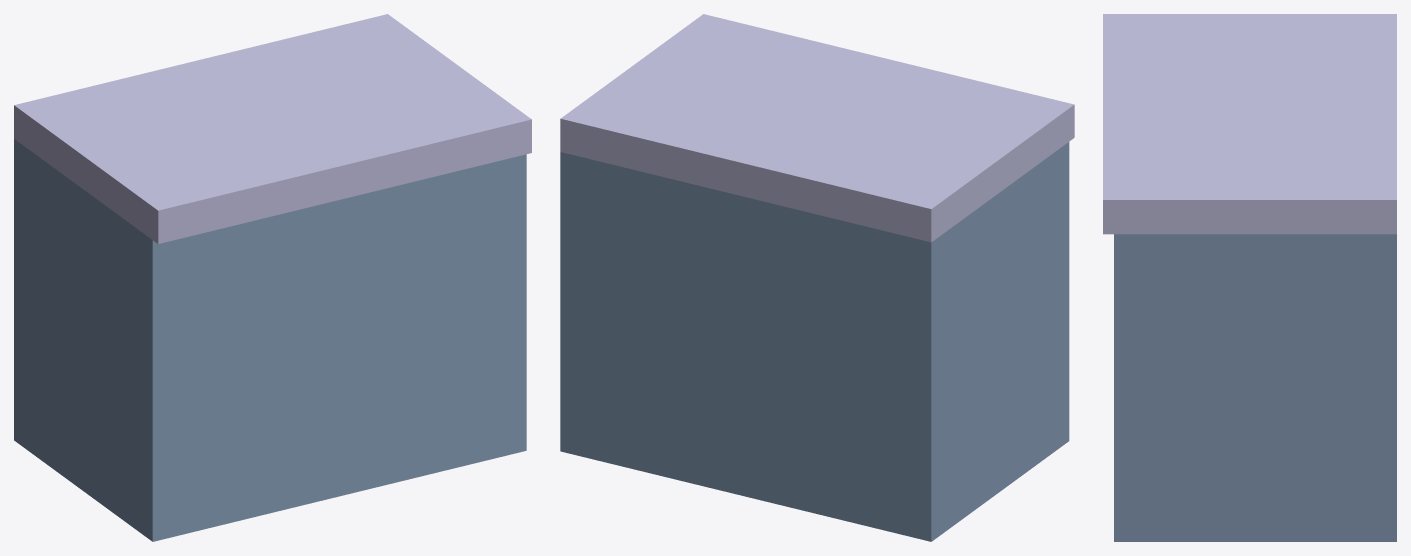
The model's file is CounterTop_Plain.fbx.
3 renders of one model, left to right at view 1: azimuth 30°, elevation 25°; view 2: azimuth 150°, elevation 25°; view 3: azimuth 270°, elevation 25°, orthographic. The views are drawn at different scales.
Visible parts, largest first — view 1: Countertop_Plain; view 2: Countertop_Plain; view 3: Countertop_Plain.
Part boxes in pixels (x1,y1,x2,y2): Countertop_Plain: (14,14,531,541); Countertop_Plain: (560,14,1074,541); Countertop_Plain: (1103,14,1396,541).
Size of the model in its own units: 1400 by 1200 by 935.
